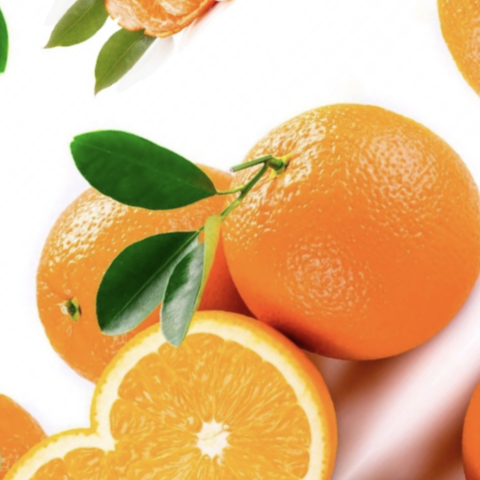orange: (137, 21, 480, 438), (0, 84, 354, 461)
